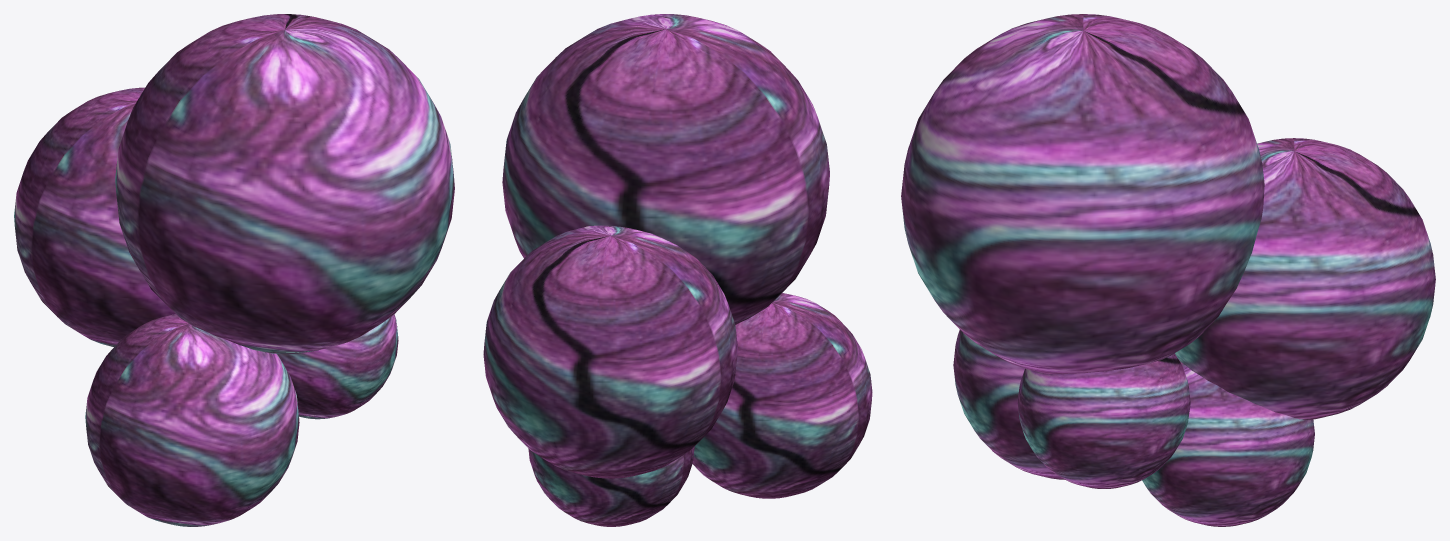
The model's file is cloudattack (1).fbx.
3 renders of one model, left to right at view 1: azimuth 30°, elevation 25°; view 2: azimuth 150°, elevation 25°; view 3: azimuth 270°, elevation 25°, orthographic. The views are drawn at different scales.
Visible parts, largest first — view 1: 球.001, 球.003, 球.004, 球.002; view 2: 球.001, 球.004, 球.003, 球; view 3: 球.001, 球.004, 球.002, 球, 球.003.
Boxes of the visible parts, box(x1,y1,x2,y2) form: 球.001: box(115, 14, 454, 353); 球.003: box(85, 314, 299, 526); 球.004: box(14, 87, 175, 346); 球.002: box(277, 314, 398, 419); 球.001: box(502, 14, 829, 324); 球.004: box(483, 225, 737, 478); 球.003: box(692, 293, 872, 498); 球: box(528, 447, 694, 526); 球.001: box(901, 14, 1264, 374); 球.004: box(1175, 138, 1435, 419); 球.002: box(1017, 353, 1190, 488); 球: box(1142, 359, 1314, 526); 球.003: box(953, 329, 1064, 479).
Size of the model in its own units: 83.8 by 108 by 107.
Materials: 1 (1 with a texture image).
